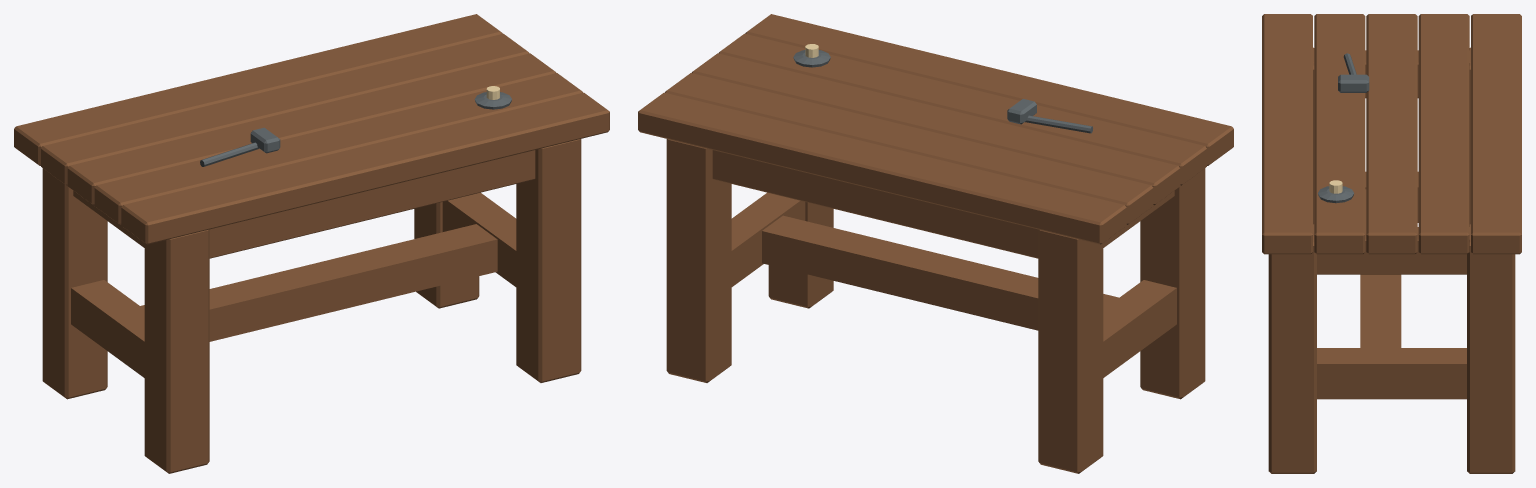
Rendered from workbench.glb.
3 views of the same model, side by side, from view 1: azimuth 30°, elevation 25°; view 2: azimuth 150°, elevation 25°; view 3: azimuth 270°, elevation 25° (orthographic). The views are drawn at different scales.
Parts seen in each view (by area): view 1: Board.004, Board.015, Board.006, Board.008, Board.001, Board, Board.002, Board.003, Board.005, Board.010, Board.013, Board.014 (+1 smaller); view 2: Board, Board.005, Board.015, Board.007, Board.002, Board.001, Board.004, Board.003, Board.006, Board.009, Board.013, Board.014 (+1 smaller); view 3: Board.001, Board.002, Board, Board.004, Board.003, Board.007, Board.008, Board.014, Board.012, Board.015, Board.016, iron (+2 smaller).
Boxes of the visible parts, x1=… form: Board.004: x1=121, y1=92, x2=609, y2=244; Board.015: x1=140, y1=224, x2=497, y2=341; Board.006: x1=144, y1=229, x2=209, y2=473; Board.008: x1=516, y1=139, x2=581, y2=382; Board.001: x1=41, y1=33, x2=529, y2=185; Board: x1=14, y1=14, x2=502, y2=165; Board.002: x1=67, y1=53, x2=556, y2=205; Board.003: x1=94, y1=73, x2=582, y2=224; Board.005: x1=42, y1=168, x2=107, y2=399; Board.010: x1=209, y1=150, x2=535, y2=258; Board.013: x1=71, y1=280, x2=144, y2=377; Board.014: x1=442, y1=192, x2=516, y2=286; Board: x1=638, y1=92, x2=1126, y2=244; Board.005: x1=1038, y1=229, x2=1103, y2=473; Board.015: x1=762, y1=215, x2=1118, y2=330; Board.007: x1=666, y1=139, x2=731, y2=382; Board.002: x1=691, y1=53, x2=1180, y2=205; Board.001: x1=665, y1=73, x2=1153, y2=224; Board.004: x1=745, y1=14, x2=1233, y2=165; Board.003: x1=718, y1=33, x2=1206, y2=185; Board.006: x1=1140, y1=168, x2=1205, y2=399; Board.009: x1=712, y1=150, x2=1038, y2=258; Board.013: x1=1103, y1=280, x2=1176, y2=377; Board.014: x1=731, y1=192, x2=805, y2=286; Board.001: x1=1418, y1=14, x2=1469, y2=254; Board.002: x1=1366, y1=14, x2=1417, y2=254; Board: x1=1471, y1=14, x2=1521, y2=254; Board.004: x1=1262, y1=14, x2=1312, y2=254; Board.003: x1=1314, y1=14, x2=1365, y2=254; Board.007: x1=1467, y1=224, x2=1515, y2=473; Board.008: x1=1268, y1=224, x2=1316, y2=473; Board.014: x1=1317, y1=348, x2=1466, y2=399; Board.012: x1=1313, y1=227, x2=1470, y2=274; Board.015: x1=1360, y1=189, x2=1401, y2=347; Board.016: x1=1338, y1=74, x2=1369, y2=92; iron: x1=1318, y1=186, x2=1354, y2=203.
Bounding box in the file's own units: 1.4 × 0.793 × 0.697.
